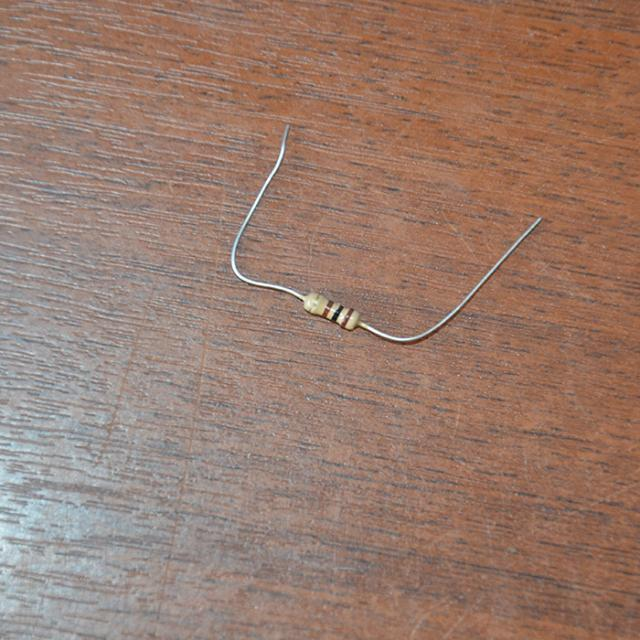black: (331, 305, 344, 321)
brown: (340, 309, 354, 328), (323, 302, 332, 316)
gold: (309, 294, 321, 313)
resistor: (294, 283, 369, 339)
